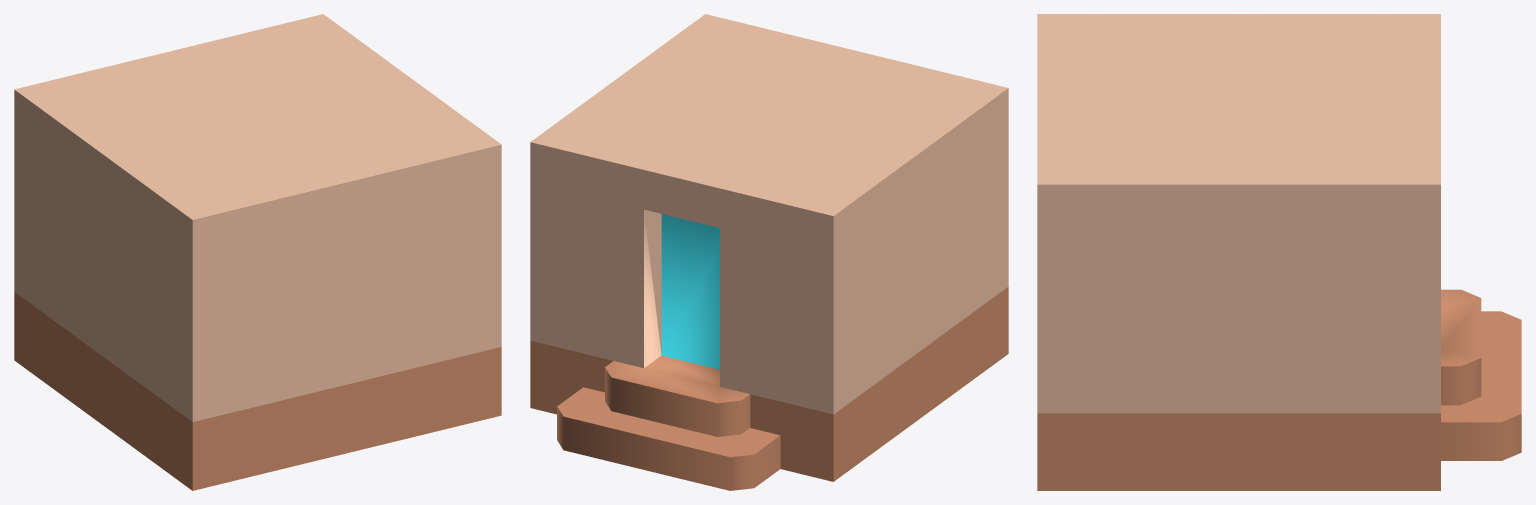
Rendered from BuildingSteps.fbx.
3 views of the same model, side by side, from view 1: azimuth 30°, elevation 25°; view 2: azimuth 150°, elevation 25°; view 3: azimuth 270°, elevation 25° (orthographic). The views are drawn at different scales.
Visible parts, largest first — view 1: BuildingSteps; view 2: BuildingSteps; view 3: BuildingSteps.
Part boxes in pixels (x1,y1,x2,y2): BuildingSteps: (14,14,501,490); BuildingSteps: (530,14,1008,490); BuildingSteps: (1037,14,1521,490).
Size of the model in its own units: 300 by 251 by 360.
